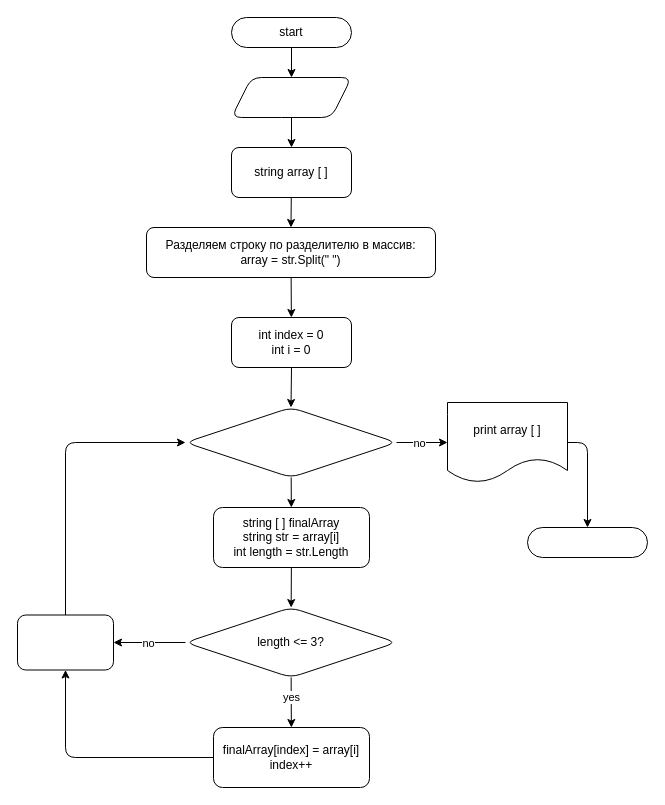
Image size: 665x805. Some labels were removed from this diagram. The shapes that lost their labels are listed below. From the top down, each one's centre as x and y in pixels, then its label:
the point at 291,97: string str
the point at 290,442: i < array.Length?
the point at 587,542: end
the point at 65,642: i++
